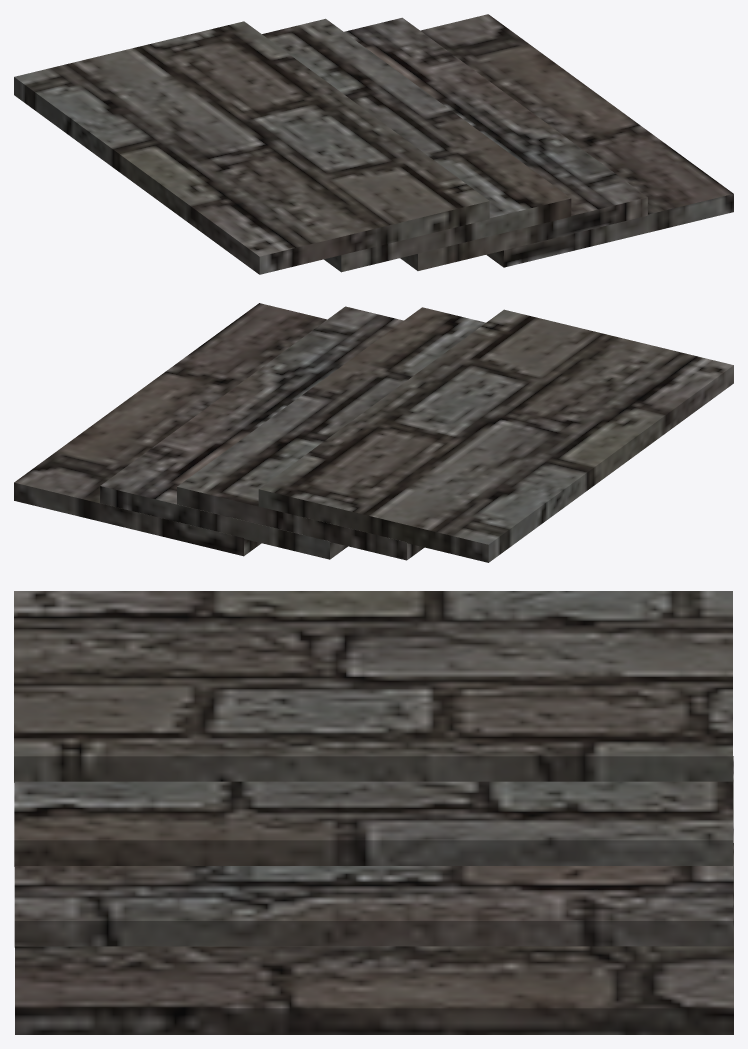
The model's file is RoofTopStoneVariant1.fbx.
3 views of the same model, one above another, from view 1: azimuth 30°, elevation 25°; view 2: azimuth 150°, elevation 25°; view 3: azimuth 270°, elevation 25° (orthographic). The views are drawn at different scales.
Visible parts, largest first — view 1: Cube.001; view 2: Cube.001; view 3: Cube.001.
Boxes of the visible parts, x1,y1,x2,y2 form: Cube.001: (14, 14, 733, 274); Cube.001: (14, 303, 733, 562); Cube.001: (14, 591, 733, 1034).
Size of the model in its own units: 49.08 by 7.07 by 44.04.
1 material, 1 textured.
